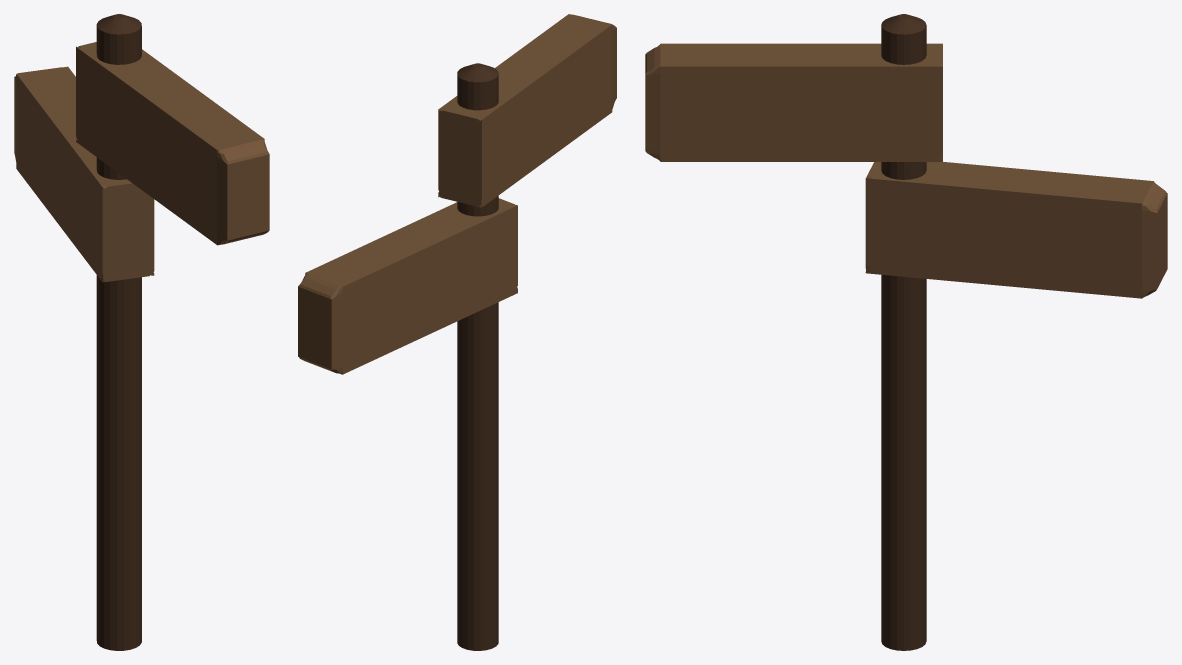
Rendered from LETREROs.fbx.
3 views of the same model, side by side, from view 1: azimuth 30°, elevation 25°; view 2: azimuth 150°, elevation 25°; view 3: azimuth 270°, elevation 25° (orthographic). The views are drawn at different scales.
Visible parts, largest first — view 1: Cube, Cylinder, Cube.001; view 2: Cube.001, Cube, Cylinder; view 3: Cube.001, Cube, Cylinder.
Boxes of the visible parts, x1=… form: Cube: x1=76, y1=42, x2=269, y2=245; Cylinder: x1=96, y1=14, x2=141, y2=650; Cube.001: x1=14, y1=66, x2=154, y2=282; Cube.001: x1=298, y1=198, x2=517, y2=374; Cube: x1=438, y1=14, x2=616, y2=207; Cylinder: x1=457, y1=63, x2=498, y2=650; Cube.001: x1=865, y1=162, x2=1167, y2=298; Cube: x1=645, y1=43, x2=942, y2=161; Cylinder: x1=881, y1=14, x2=926, y2=650.
Bounding box in the file's own units: 202 × 1225 × 927.
